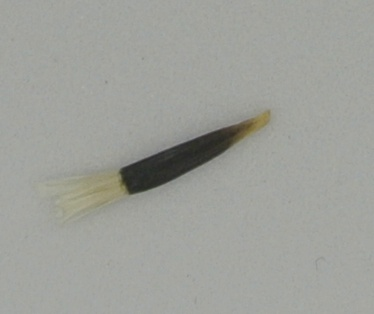เมล็ดดีติดกัน: (20, 106, 281, 229)
